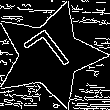L_SE: (20, 26, 78, 84)
